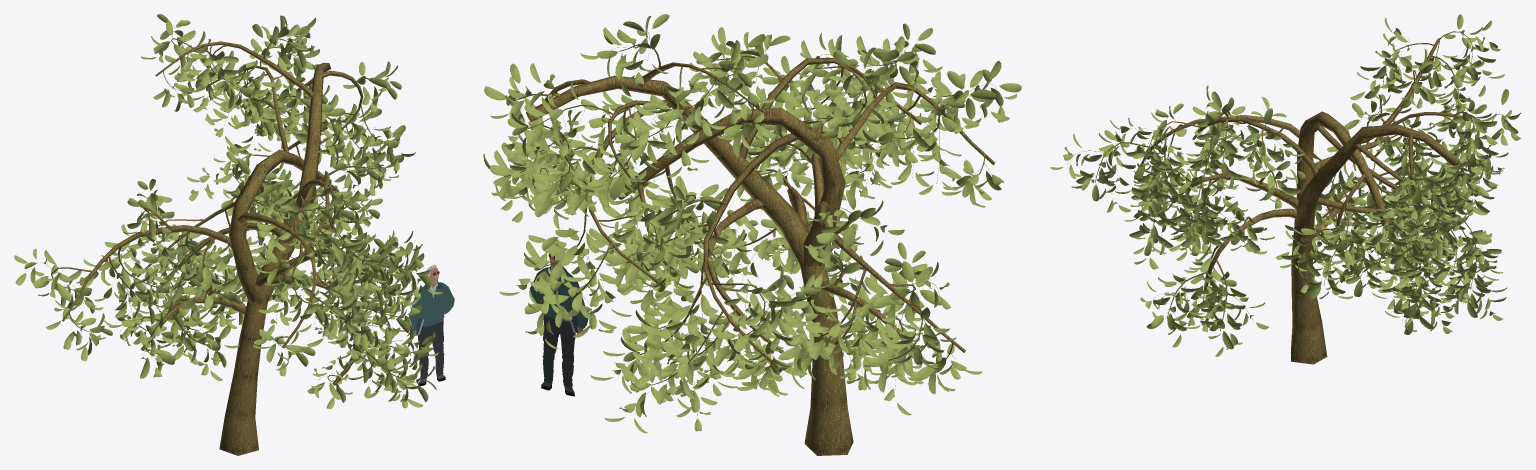
3 views of the same model, side by side, from view 1: azimuth 30°, elevation 25°; view 2: azimuth 150°, elevation 25°; view 3: azimuth 270°, elevation 25° (orthographic). The views are drawn at different scales.
Parts seen in each view (by area): view 1: stemslevel0 (×2), stemslevel1 (×7), Steve (×2); view 2: stemslevel0 (×2), stemslevel1 (×10), Steve (×2); view 3: stemslevel0 (×2), stemslevel1 (×4).
Part boxes in pixels (bbox=[...]): stemslevel0 (×2): bbox=[219, 62, 331, 455]; stemslevel1 (×7): bbox=[62, 41, 354, 350]; Steve (×2): bbox=[408, 282, 454, 379]; stemslevel0 (×2): bbox=[526, 75, 853, 455]; stemslevel1 (×10): bbox=[588, 58, 995, 368]; Steve (×2): bbox=[529, 267, 588, 387]; stemslevel0 (×2): bbox=[1290, 111, 1459, 364]; stemslevel1 (×4): bbox=[1138, 115, 1317, 288].
Bounding box in the file's own units: 226 × 251 × 203.
Materials: 14 (2 with a texture image).
